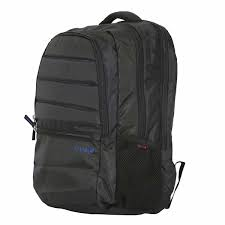backpack: (23, 10, 185, 215)
